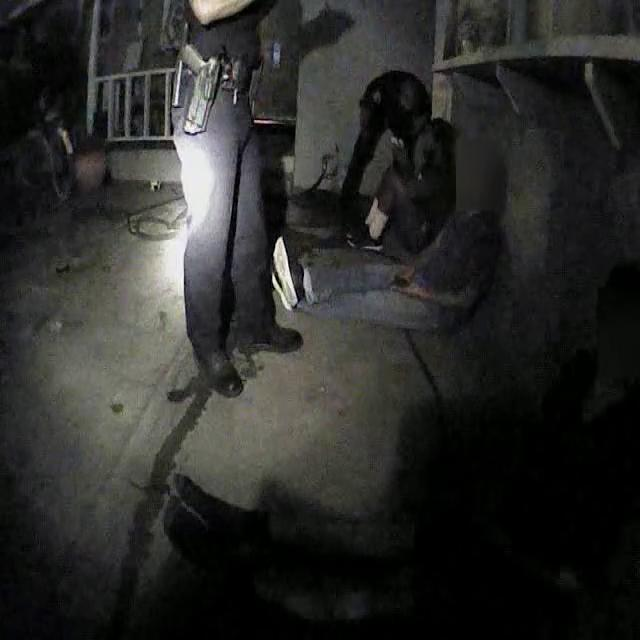gun: (163, 33, 231, 143)
